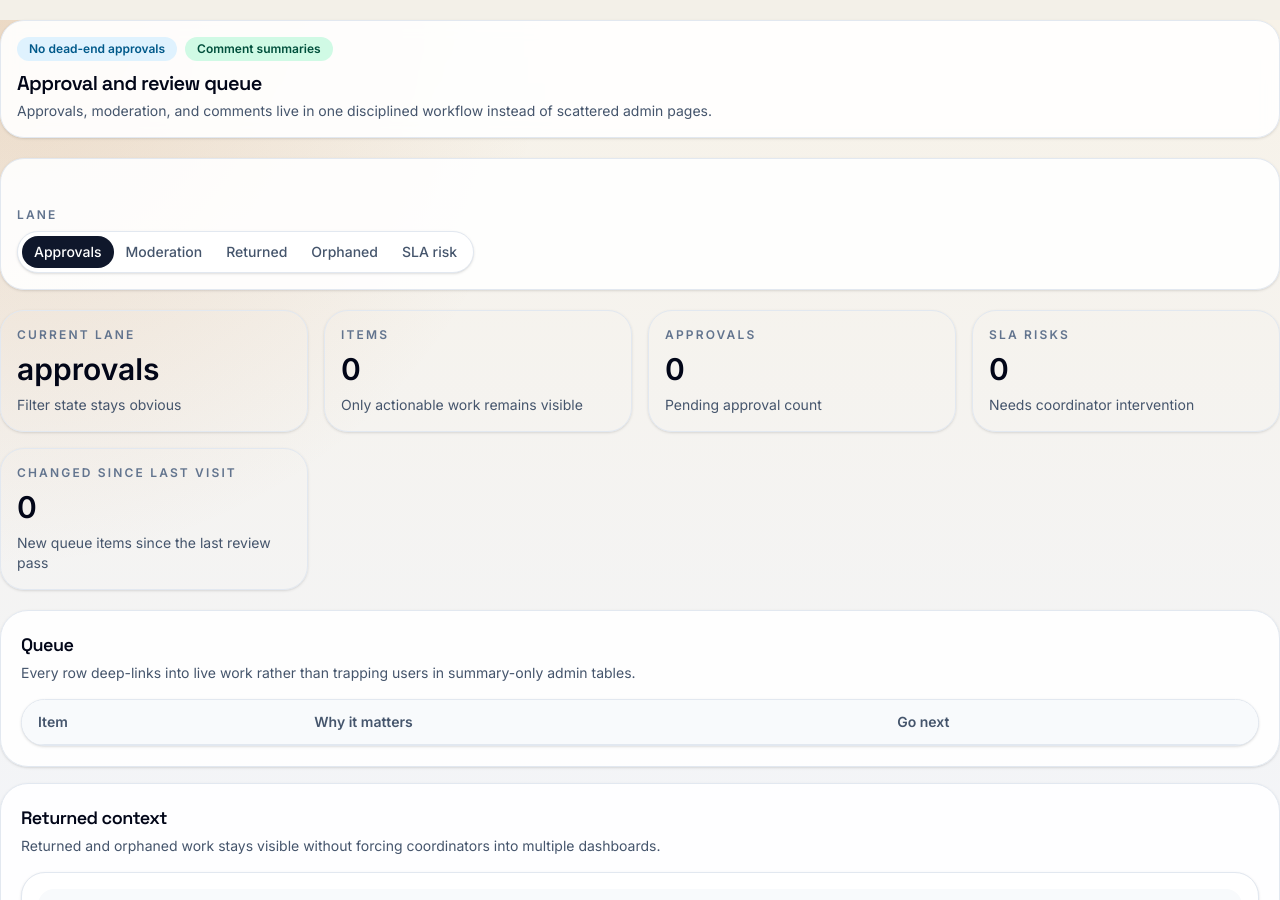
Test: ReviewQueue › switches lanes and renders moderation items
Click the button "Moderation" at (164, 252), box [114, 236, 214, 268]
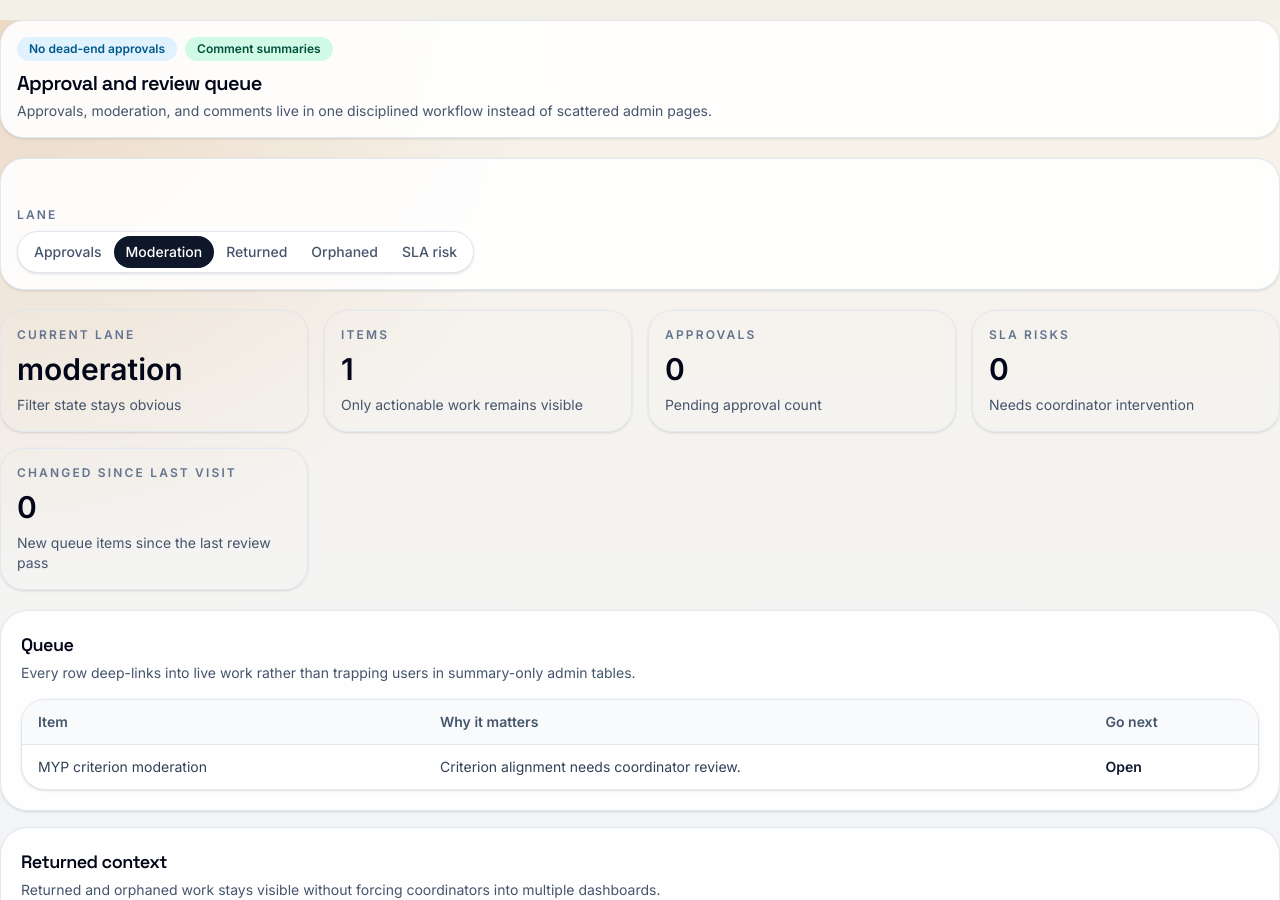
Expected: the text "MYP criterion moderation" is shown, [22, 744, 424, 789]
